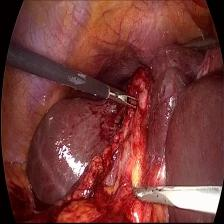Grasper: (102, 85, 145, 111)
Irrigator: (129, 182, 150, 207)
